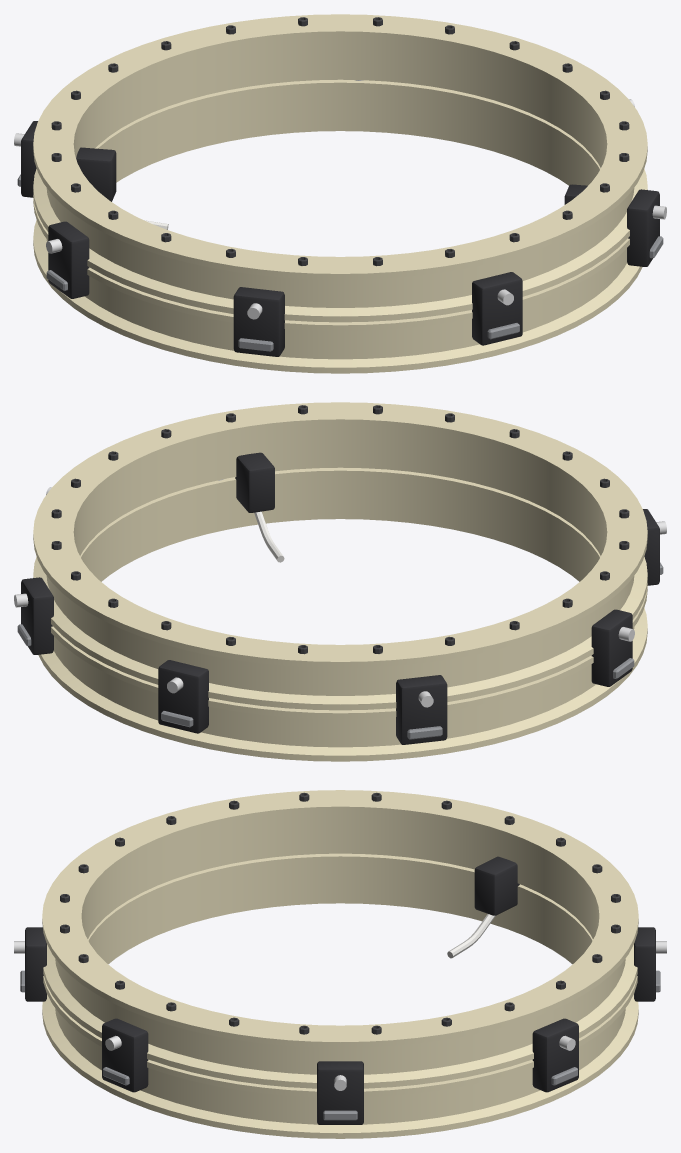
File: separation_ring.glb
The picture shows the model from 3 angles, top to bottom: view 1: azimuth 30°, elevation 25°; view 2: azimuth 150°, elevation 25°; view 3: azimuth 270°, elevation 25°; orthographic projection. The views are drawn at different scales.
Visible parts, largest first — view 1: upper_ring, lower_ring, separation_ring; view 2: upper_ring, lower_ring, separation_ring; view 3: upper_ring, lower_ring, separation_ring.
Boxes of the visible parts, bbox=[...] form: upper_ring: bbox=[33, 14, 647, 322]; lower_ring: bbox=[33, 79, 642, 373]; separation_ring: bbox=[14, 80, 666, 356]; upper_ring: bbox=[33, 402, 647, 710]; lower_ring: bbox=[38, 467, 647, 761]; separation_ring: bbox=[14, 452, 666, 744]; upper_ring: bbox=[42, 790, 638, 1088]; lower_ring: bbox=[42, 853, 638, 1138]; separation_ring: bbox=[14, 856, 666, 1124].
Size of the model in its own units: 0.416 by 0.0752 by 0.416.
